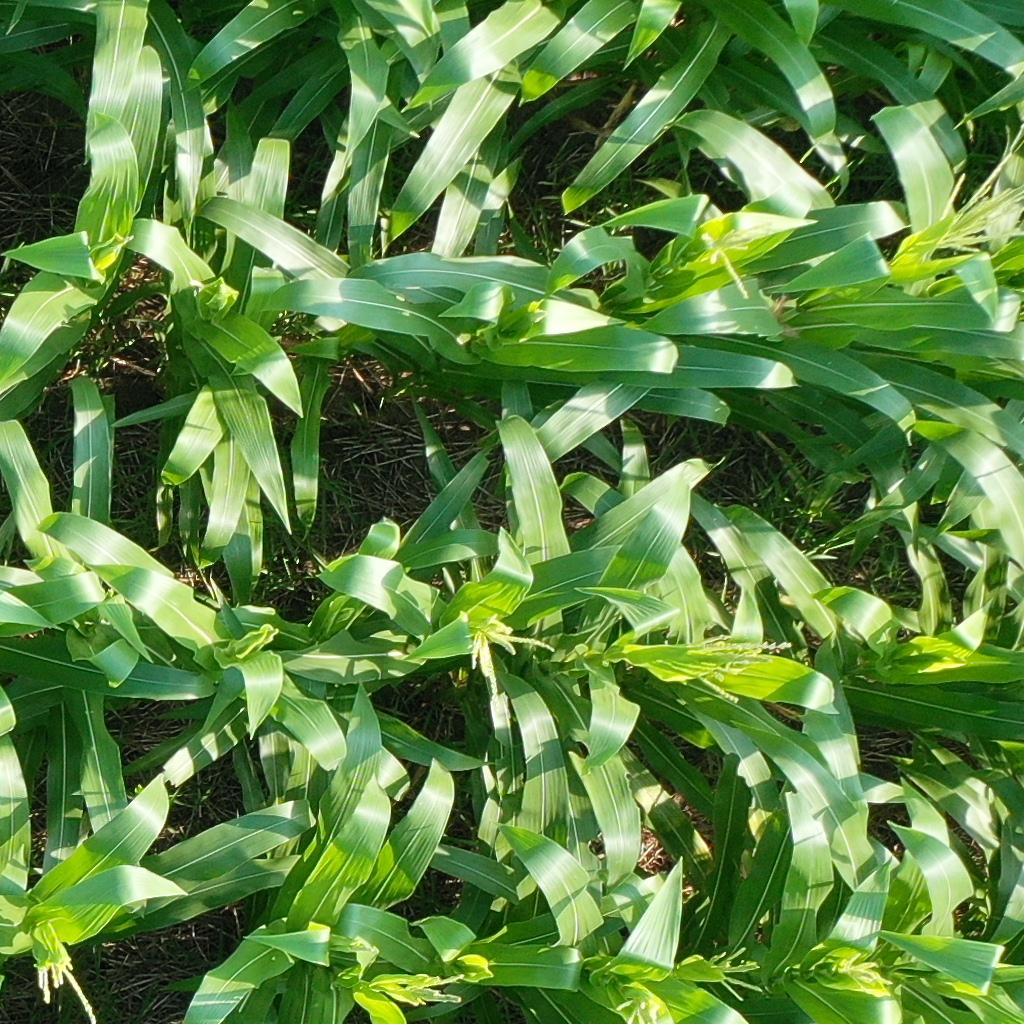Tassel: (930, 145, 1024, 257), (461, 609, 558, 698), (687, 629, 793, 703), (695, 219, 778, 296), (30, 947, 99, 1024), (707, 945, 767, 1003), (836, 950, 895, 994), (399, 970, 464, 1006), (613, 991, 660, 1024), (328, 934, 385, 956), (94, 232, 138, 260), (197, 272, 228, 301)
